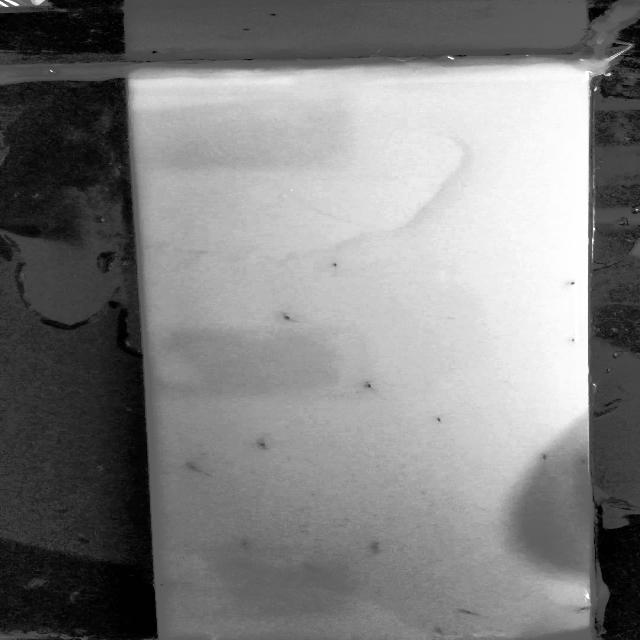shrimp: (452, 600, 495, 624), (344, 374, 386, 396), (352, 538, 397, 558), (263, 310, 307, 327), (176, 459, 213, 478), (226, 533, 259, 554), (234, 436, 278, 451), (425, 618, 454, 638), (521, 448, 562, 462), (156, 578, 188, 594), (320, 256, 348, 270)
